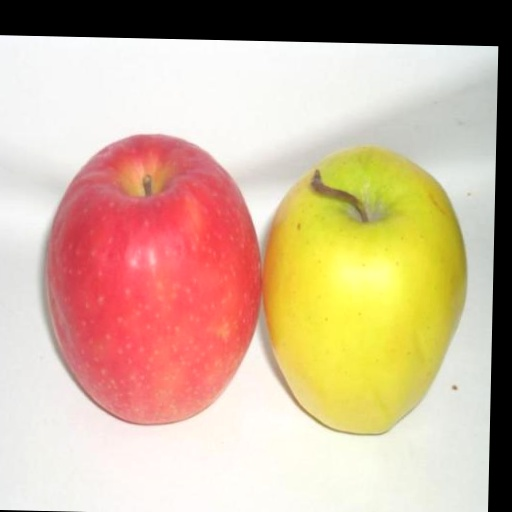fruit: (47, 135, 259, 423), (262, 147, 465, 433)
